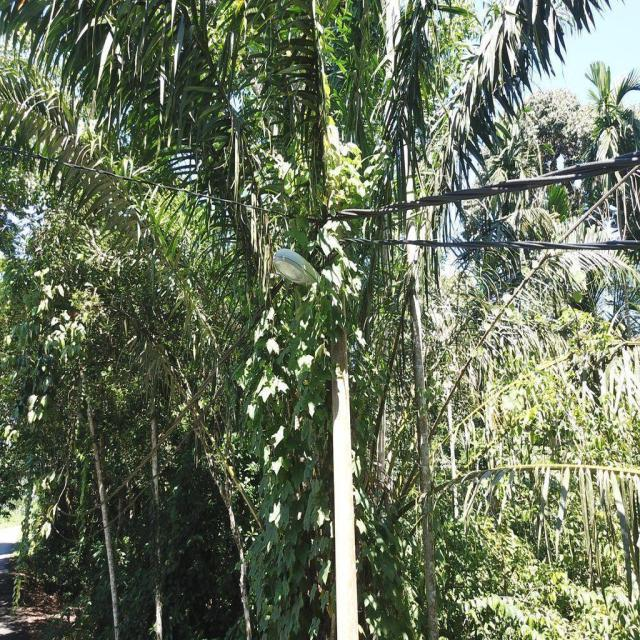critical vegetation: (301, 111, 374, 416)
